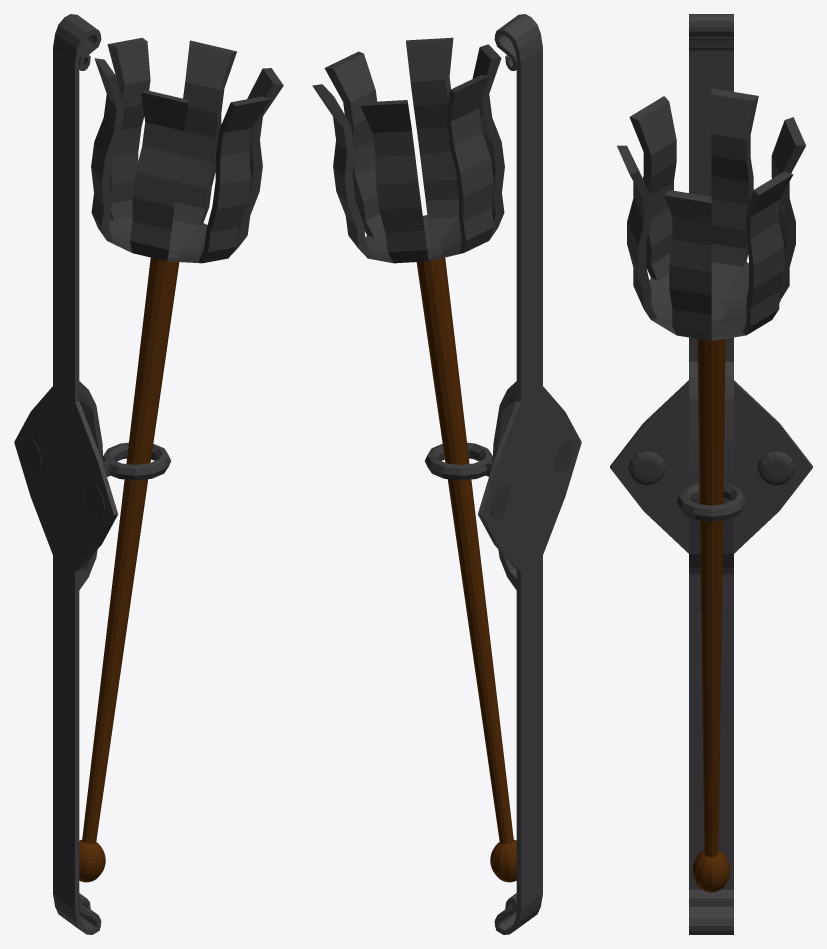
The model's file is MedievalDungeonTorch.fbx.
The picture shows the model from 3 angles, left to right: view 1: azimuth 30°, elevation 25°; view 2: azimuth 150°, elevation 25°; view 3: azimuth 270°, elevation 25°; orthographic projection.
Parts seen in each view (by area): view 1: Cube; view 2: Cube; view 3: Cube.
Boxes of the visible parts, <box> form: Cube: <box>14,14,283,934</box>; Cube: <box>312,14,581,934</box>; Cube: <box>610,14,812,934</box>.
Bounding box in the file's own units: 12.03 × 50 × 10.
